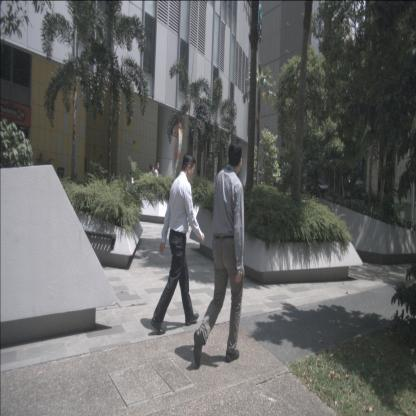human-pedestrian-adult: (193, 140, 245, 366), (150, 153, 205, 335), (153, 160, 161, 214), (148, 164, 155, 210), (130, 171, 136, 202)
